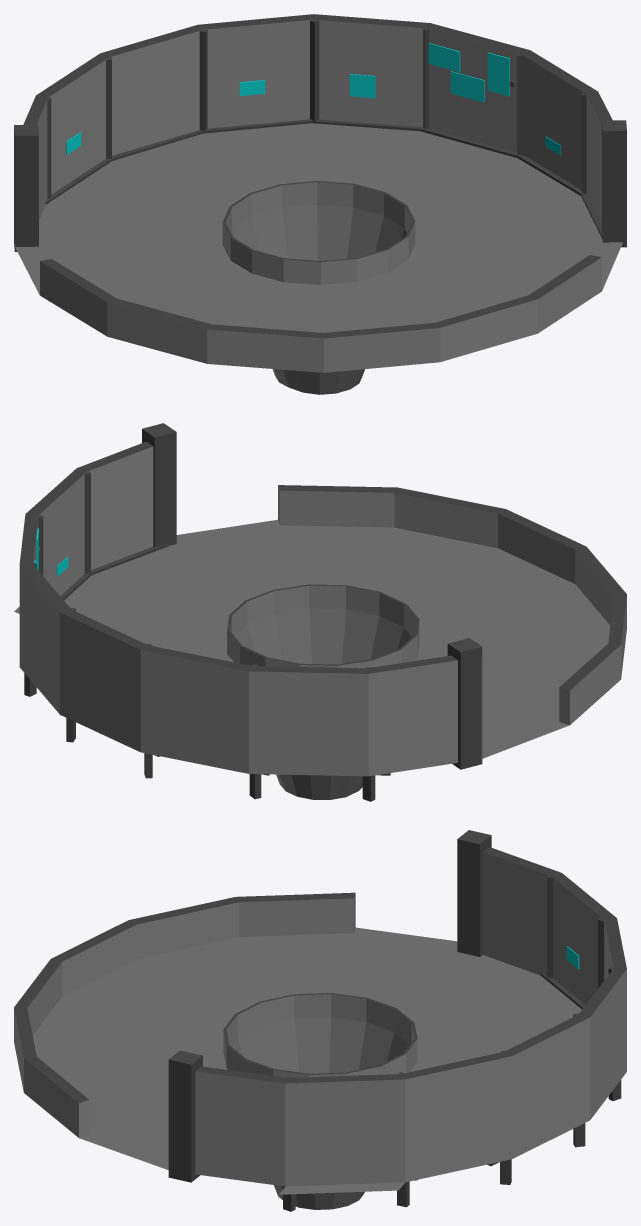
Rendered from bunker mid.fbx.
3 renders of one model, top to bottom at view 1: azimuth 30°, elevation 25°; view 2: azimuth 150°, elevation 25°; view 3: azimuth 270°, elevation 25°, orthographic.
Visible parts, largest first — view 1: PM3D_Cube3D1_229; view 2: PM3D_Cube3D1_229; view 3: PM3D_Cube3D1_229.
Boxes of the visible parts, <box> form: PM3D_Cube3D1_229: <box>14,14,626,394</box>; PM3D_Cube3D1_229: <box>14,423,626,801</box>; PM3D_Cube3D1_229: <box>14,830,626,1211</box>.
Bounding box in the file's own units: 2325 × 1006 × 2262.
